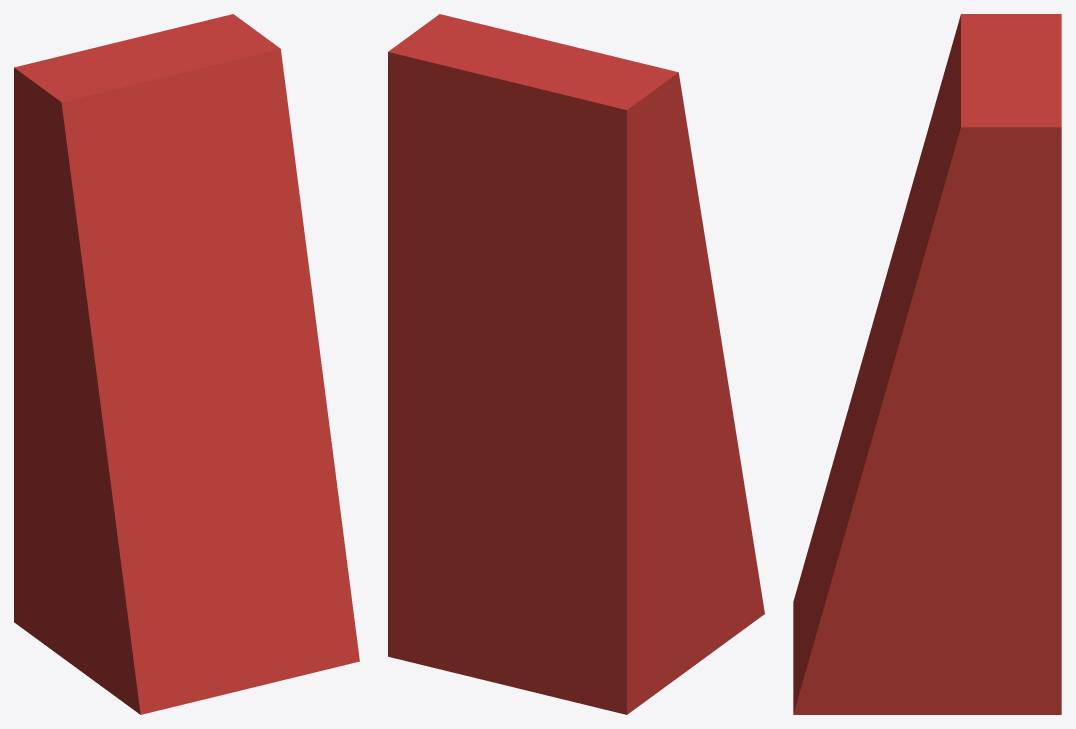
3 views of the same model, side by side, from view 1: azimuth 30°, elevation 25°; view 2: azimuth 150°, elevation 25°; view 3: azimuth 270°, elevation 25° (orthographic). The views are drawn at different scales.
Visible parts, largest first — view 1: Gripper_L_001; view 2: Gripper_L_001; view 3: Gripper_L_001.
Part boxes in pixels (x1,y1,x2,y2): Gripper_L_001: [14, 14, 359, 714]; Gripper_L_001: [388, 14, 764, 714]; Gripper_L_001: [793, 14, 1061, 714].
Size of the model in its own units: 0.5414 by 0.5414 by 1.31.
